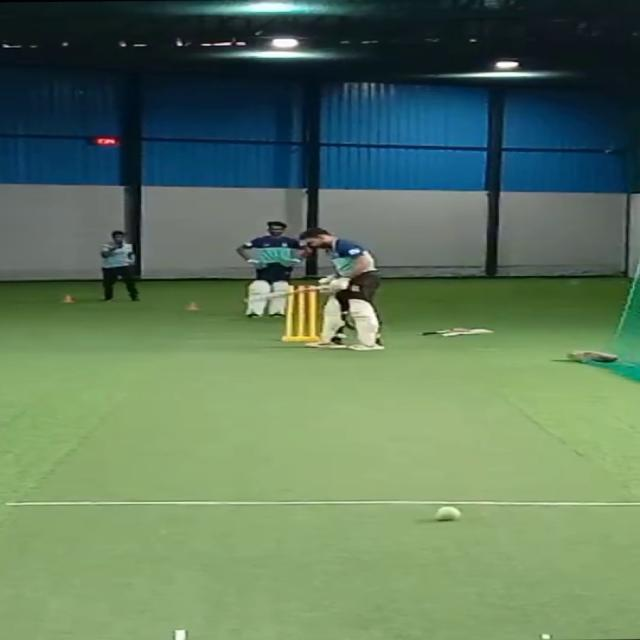ball: (424, 502, 464, 528)
stump: (282, 284, 318, 344)
